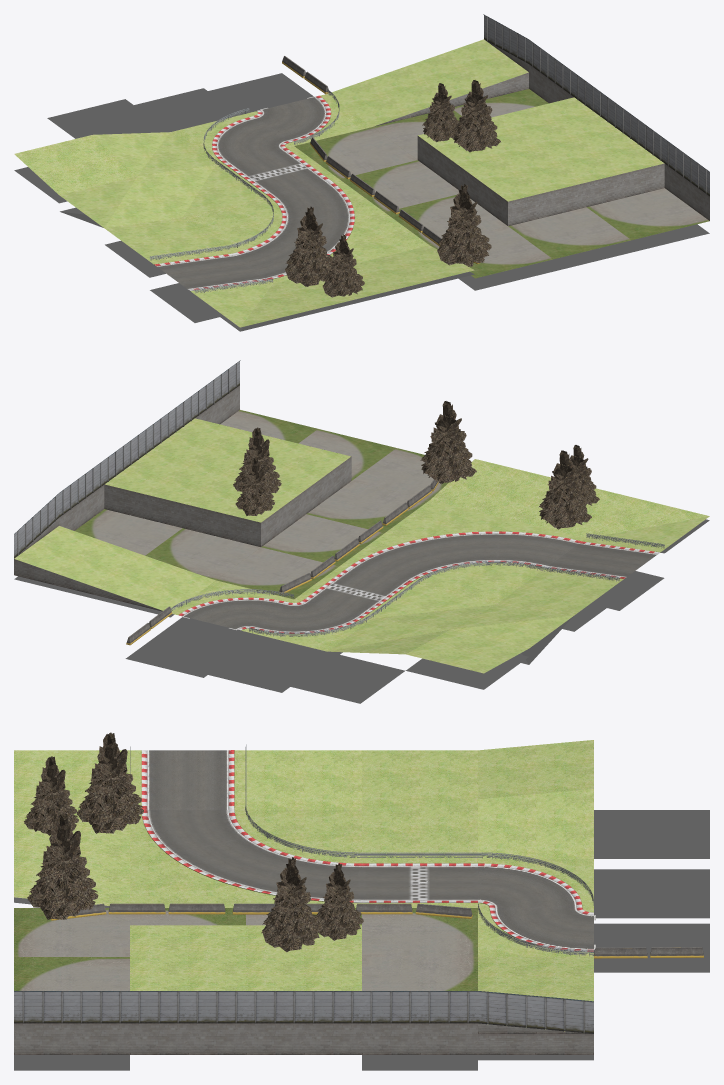
The model's file is map5.mtl.obj.
3 renders of one model, top to bottom at view 1: azimuth 30°, elevation 25°; view 2: azimuth 150°, elevation 25°; view 3: azimuth 270°, elevation 25°, orthographic. The views are drawn at different scales.
Parts seen in each view (by area): view 1: map5; view 2: map5; view 3: map5.
Boxes of the visible parts, box(x1,y1,x2,y2) form: map5: box(14, 14, 709, 331); map5: box(14, 360, 709, 703); map5: box(14, 732, 709, 1070).
Bounding box in the file's own units: 122 × 28.18 × 122.
Materials: 13 (12 with a texture image).
